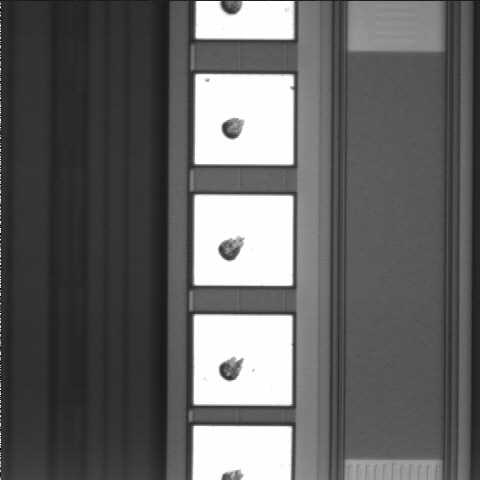pad: (194, 195, 293, 286), (195, 74, 294, 164), (194, 315, 292, 405)
